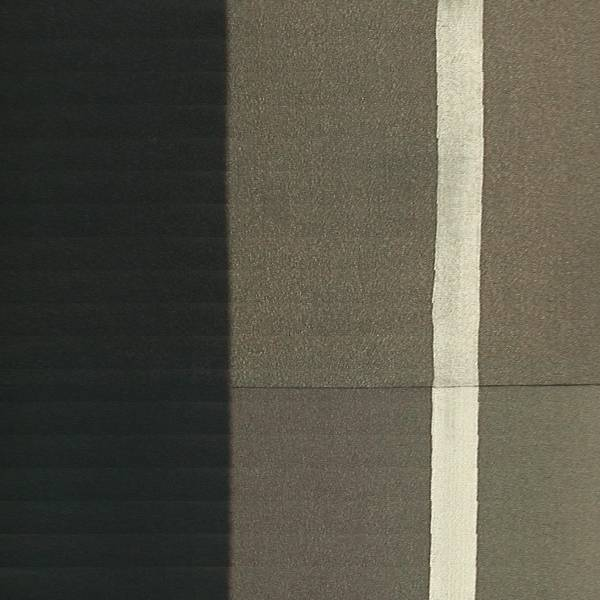road_damage: (224, 368, 590, 399)
